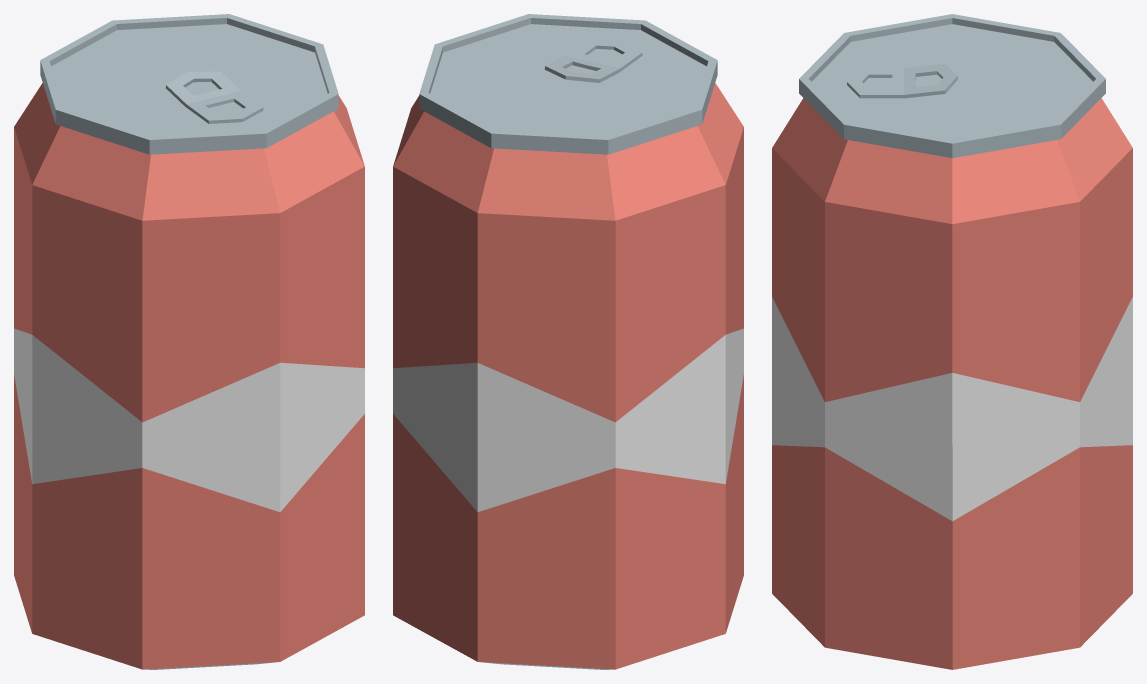
Rendered from Soda.fbx.
The picture shows the model from 3 angles, left to right: view 1: azimuth 30°, elevation 25°; view 2: azimuth 150°, elevation 25°; view 3: azimuth 270°, elevation 25°; orthographic projection.
Parts seen in each view (by area): view 1: Circle.001; view 2: Circle.001; view 3: Circle.001.
Boxes of the visible parts, x1,y1,x2,y2 form: Circle.001: [14, 14, 364, 669]; Circle.001: [393, 14, 743, 669]; Circle.001: [772, 14, 1132, 669].
Size of the model in its own units: 611 by 1006 by 611.
